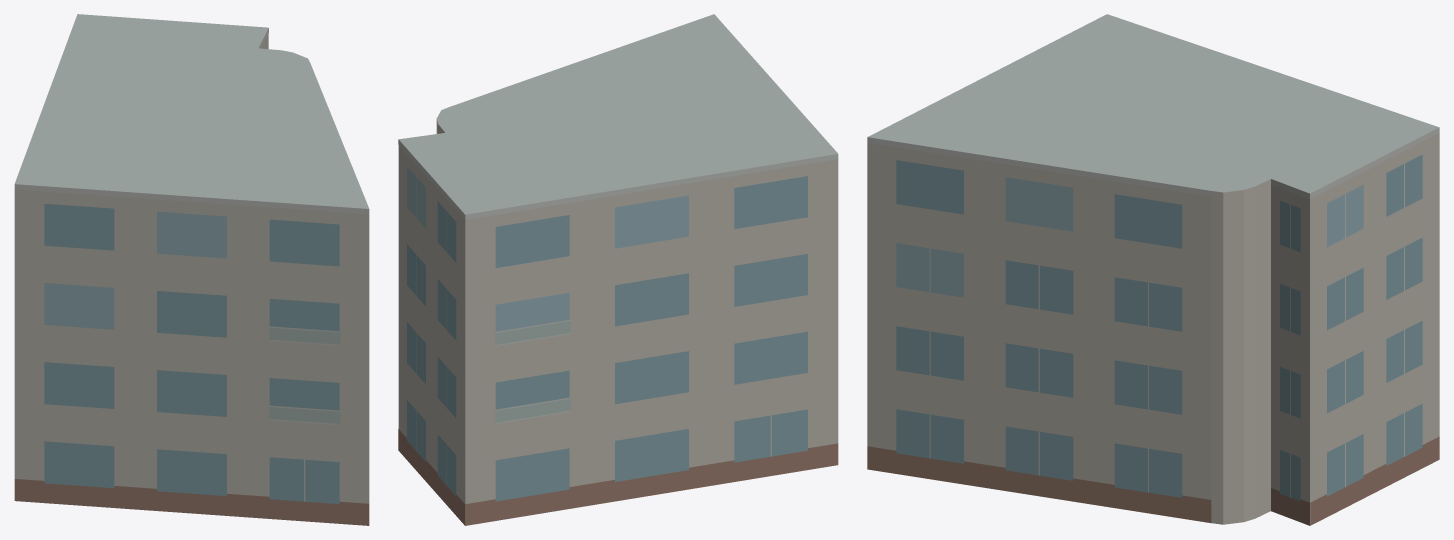
The model's file is survey-upis-32711313.glb.
3 renders of one model, left to right at view 1: azimuth 30°, elevation 25°; view 2: azimuth 150°, elevation 25°; view 3: azimuth 270°, elevation 25°, orthographic. The views are drawn at different scales.
Parts seen in each view (by area): view 1: survey-upis-32711313.tmp; view 2: survey-upis-32711313.tmp; view 3: survey-upis-32711313.tmp.
Part boxes in pixels (left/top/right/bottom): survey-upis-32711313.tmp: left=14, top=14, right=369, bottom=525; survey-upis-32711313.tmp: left=398, top=14, right=838, bottom=525; survey-upis-32711313.tmp: left=867, top=14, right=1439, bottom=525.
Size of the model in its own units: 16.82 by 14.5 by 22.64.
